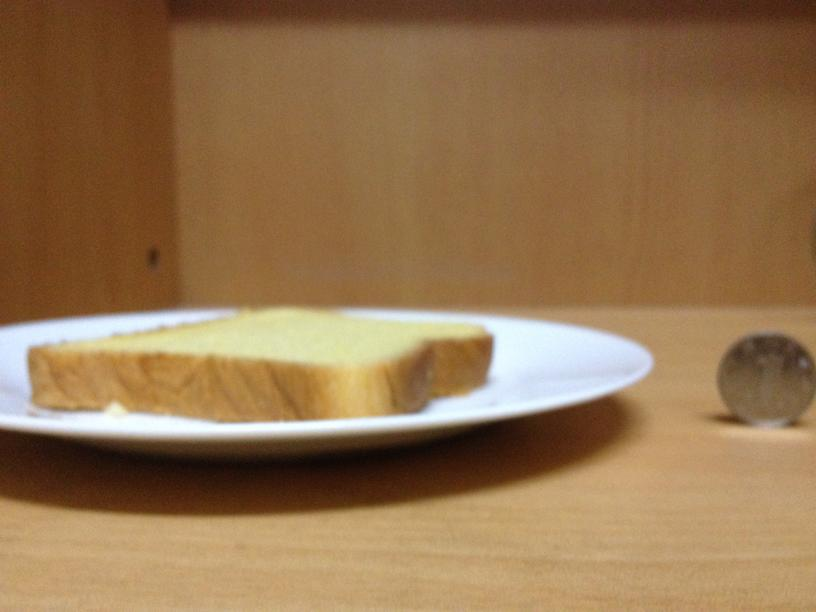bread: (21, 312, 492, 422)
coin: (714, 333, 814, 426)
